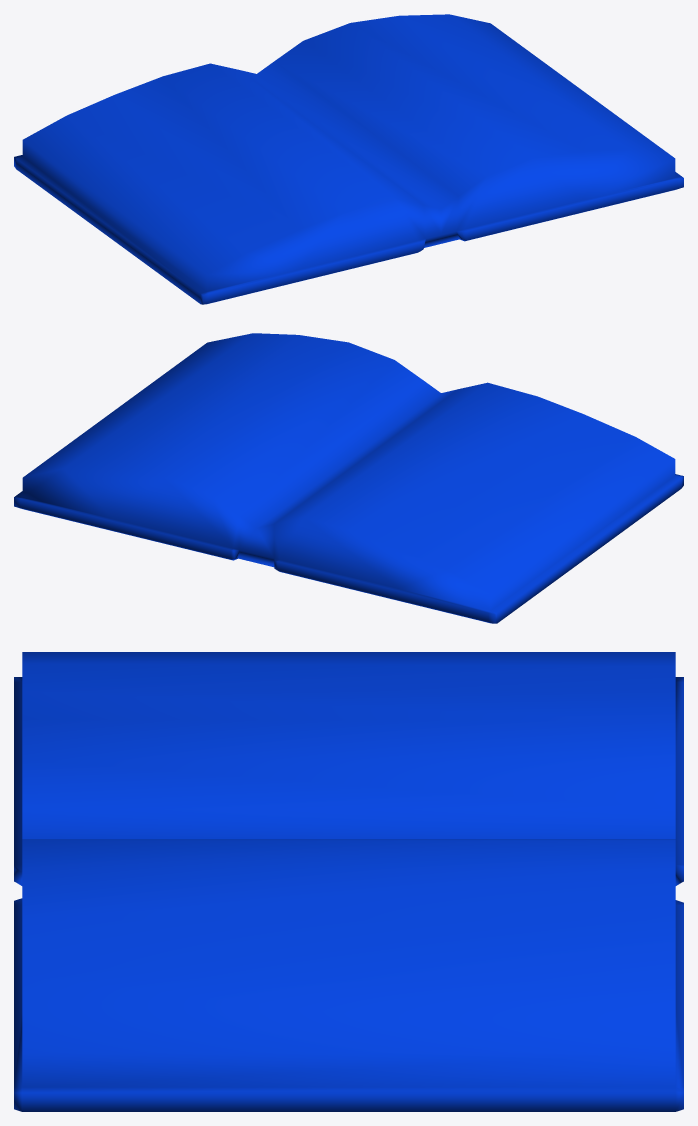
The model's file is Book_Open_01.fbx.
3 renders of one model, top to bottom at view 1: azimuth 30°, elevation 25°; view 2: azimuth 150°, elevation 25°; view 3: azimuth 270°, elevation 25°, orthographic. The views are drawn at different scales.
Parts seen in each view (by area): view 1: Book_Open_01; view 2: Book_Open_01; view 3: Book_Open_01.
Part boxes in pixels (x1,y1,x2,y2): Book_Open_01: [14, 14, 683, 304]; Book_Open_01: [14, 333, 683, 623]; Book_Open_01: [14, 652, 683, 1111].
Bounding box in the file's own units: 46.77 × 6.16 × 31.85.
